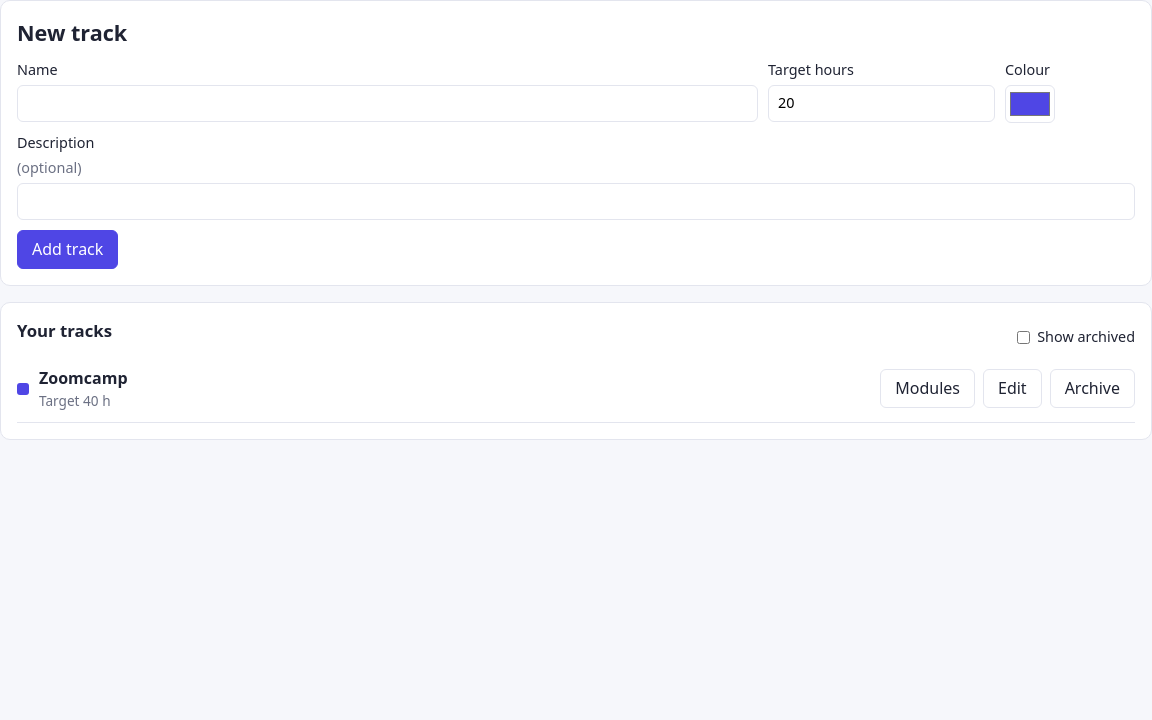
Test: TracksPage › opens the module list for a track
Click the button "Modules" at (928, 389), box [880,369,975,408]
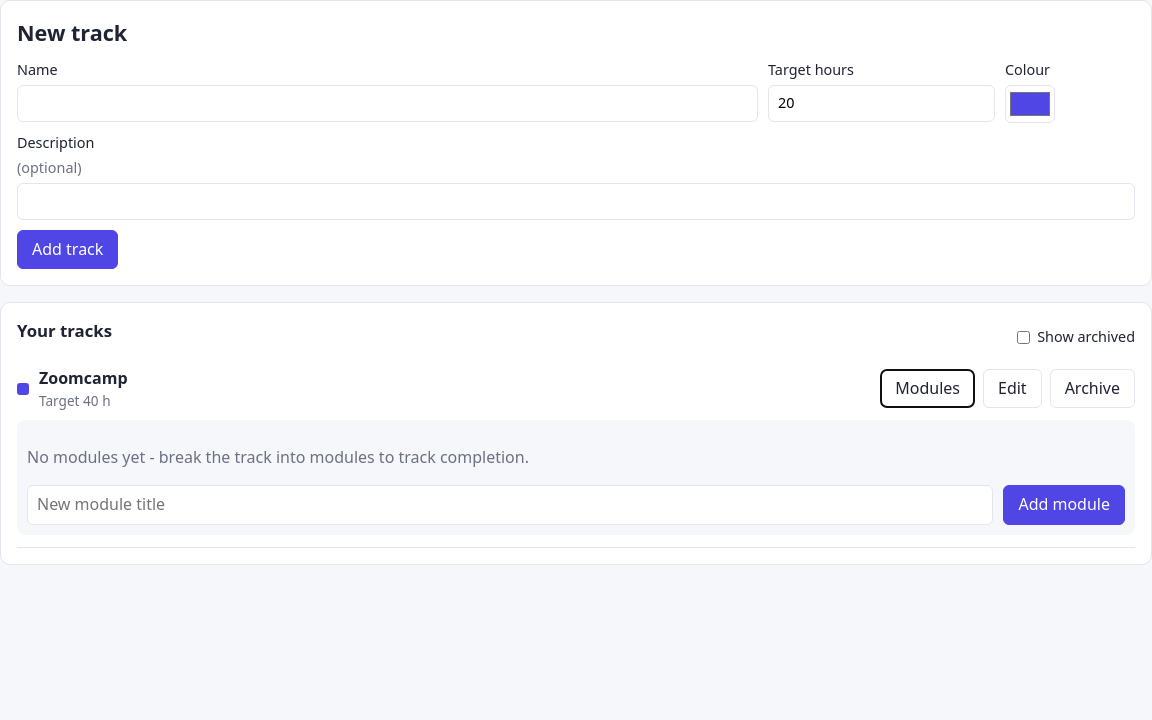
Result: the text "No modules yet" is shown at [27,446,529,468]
